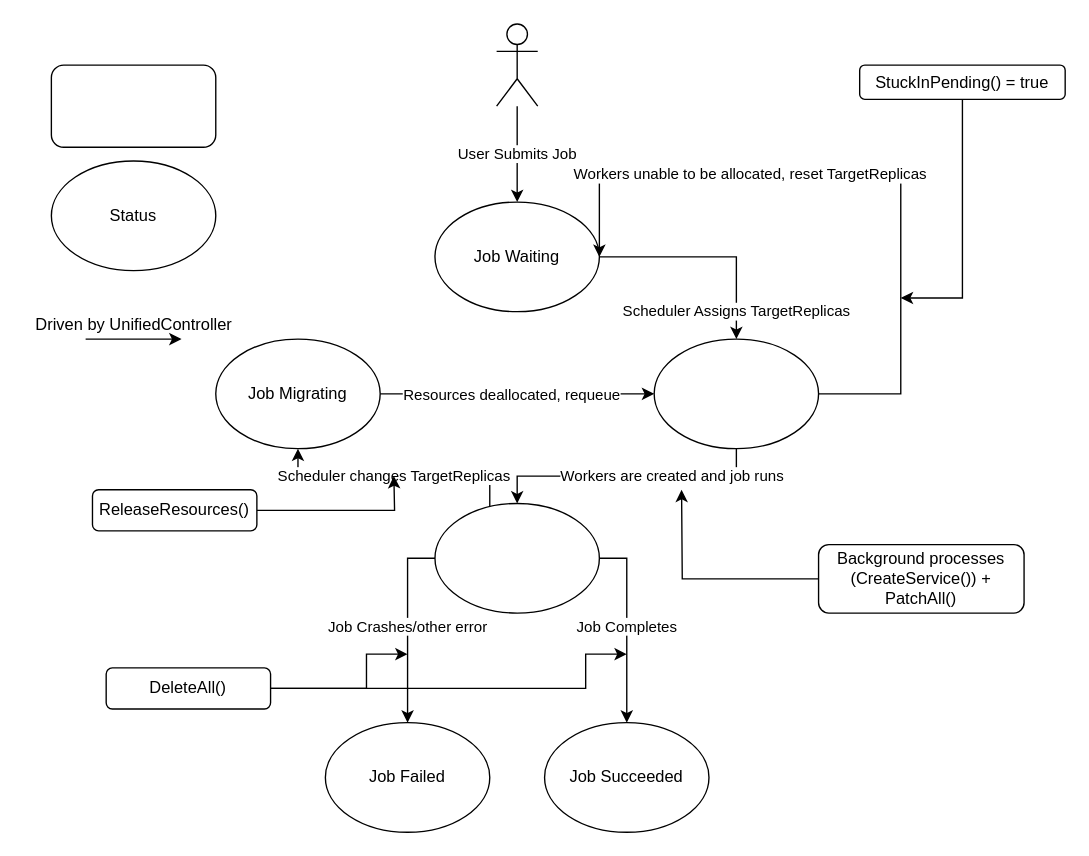
This 1089x856 diagram has some shape labels left out. The shapes that lost their labels are listed below. From the top down, each one's box as (x1, y1, x2, y2) in pixels, then its label:
(495, 23, 538, 106): Actor
(50, 64, 216, 147): Interface functions
(653, 338, 819, 449): Job Pending
(434, 502, 599, 613): Job Running
